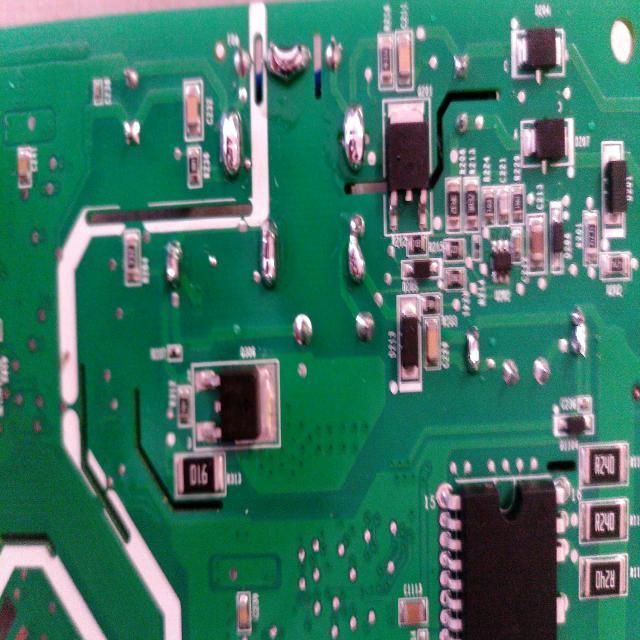Soldering shorted: (260, 38, 312, 87), (218, 104, 245, 188), (339, 103, 369, 175), (253, 214, 280, 294), (344, 208, 370, 286), (569, 301, 590, 361), (463, 317, 483, 379), (163, 237, 184, 290)
